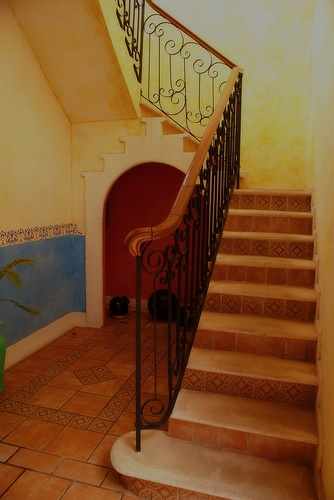stairs_up: (182, 186, 320, 500)
